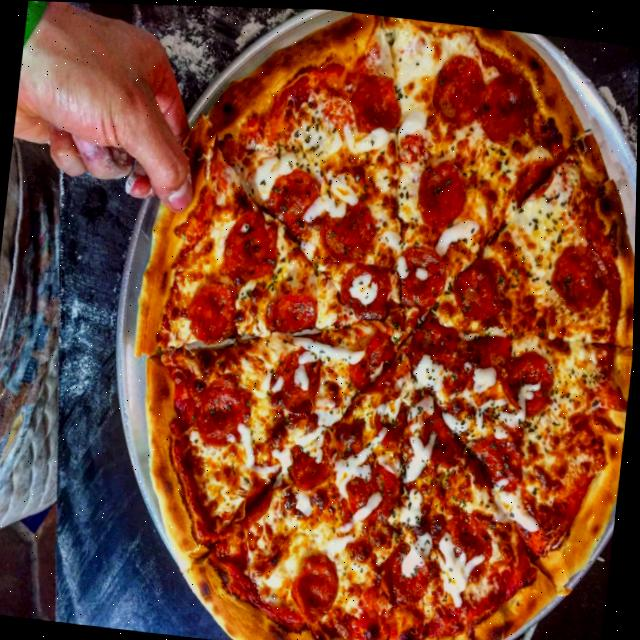pepperoni: (475, 63, 541, 146), (547, 235, 614, 314), (219, 204, 282, 288), (193, 367, 256, 447), (426, 48, 487, 130), (315, 190, 378, 265), (448, 249, 511, 323), (437, 506, 498, 580), (346, 62, 407, 135), (496, 342, 557, 415), (288, 547, 344, 626), (413, 155, 469, 231), (184, 274, 241, 346), (271, 341, 325, 417), (342, 457, 404, 522), (466, 428, 528, 492), (347, 325, 402, 396), (394, 241, 450, 309), (265, 163, 323, 228), (338, 258, 394, 320), (409, 306, 463, 369), (229, 473, 276, 545), (419, 403, 469, 469), (289, 422, 336, 492), (264, 285, 320, 339), (465, 326, 518, 377), (391, 540, 433, 604), (373, 388, 410, 451), (515, 152, 555, 210)
pizza: (103, 3, 640, 640)
